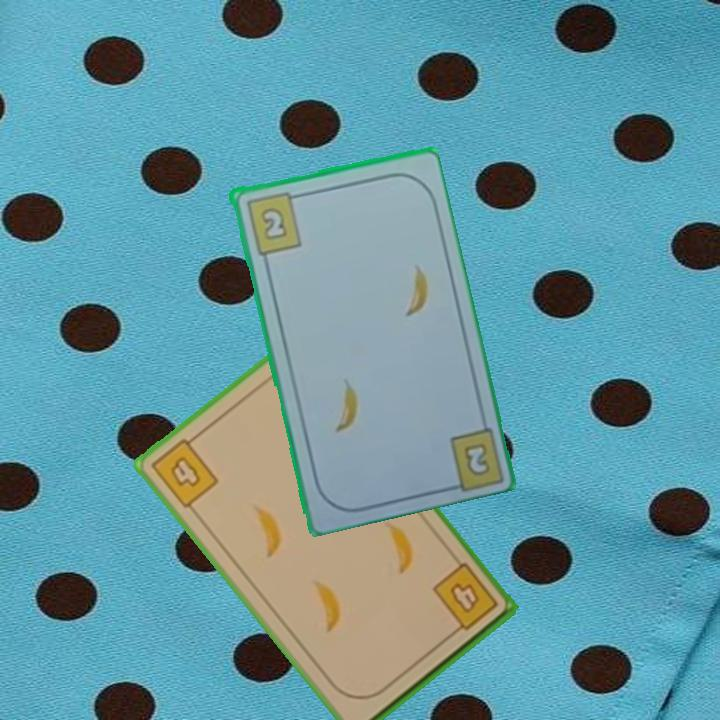2b: (242, 187, 304, 257), (459, 438, 493, 479)
4b: (147, 430, 222, 511), (428, 559, 501, 639)
